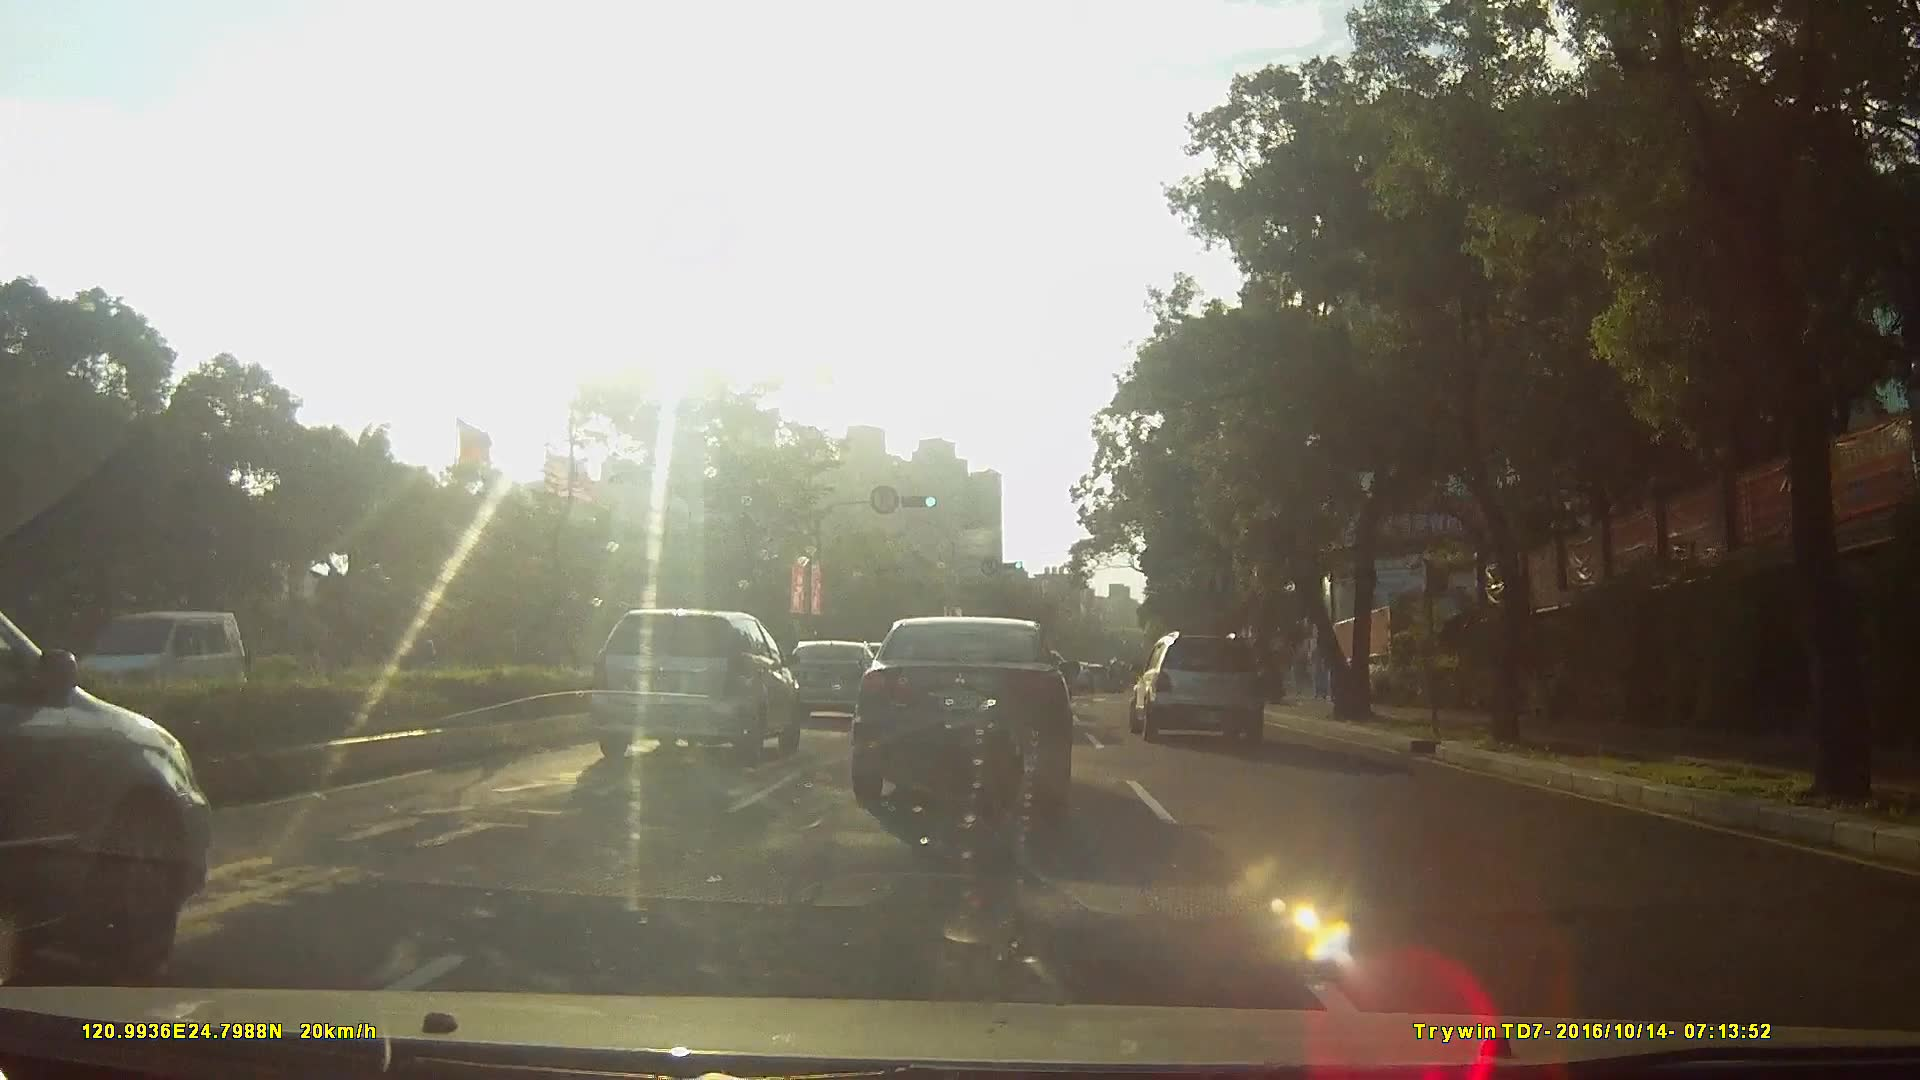vehicle: (1, 583, 236, 993), (851, 611, 1077, 814), (582, 605, 798, 761), (30, 603, 199, 713), (1129, 629, 1280, 742), (775, 640, 890, 723)
